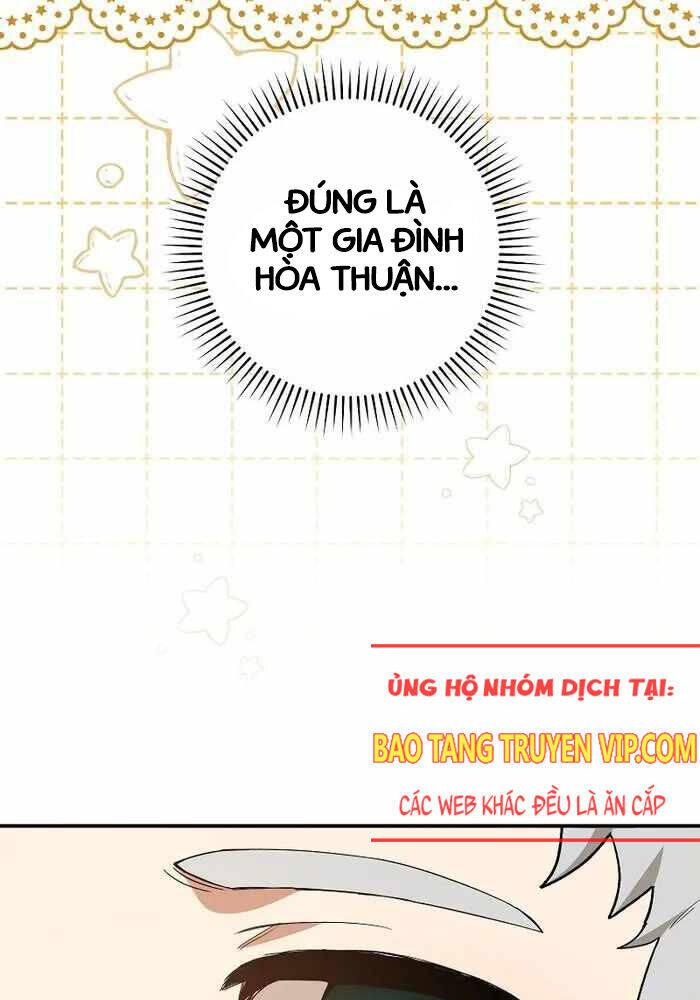quangcao: (368, 637, 700, 842)
